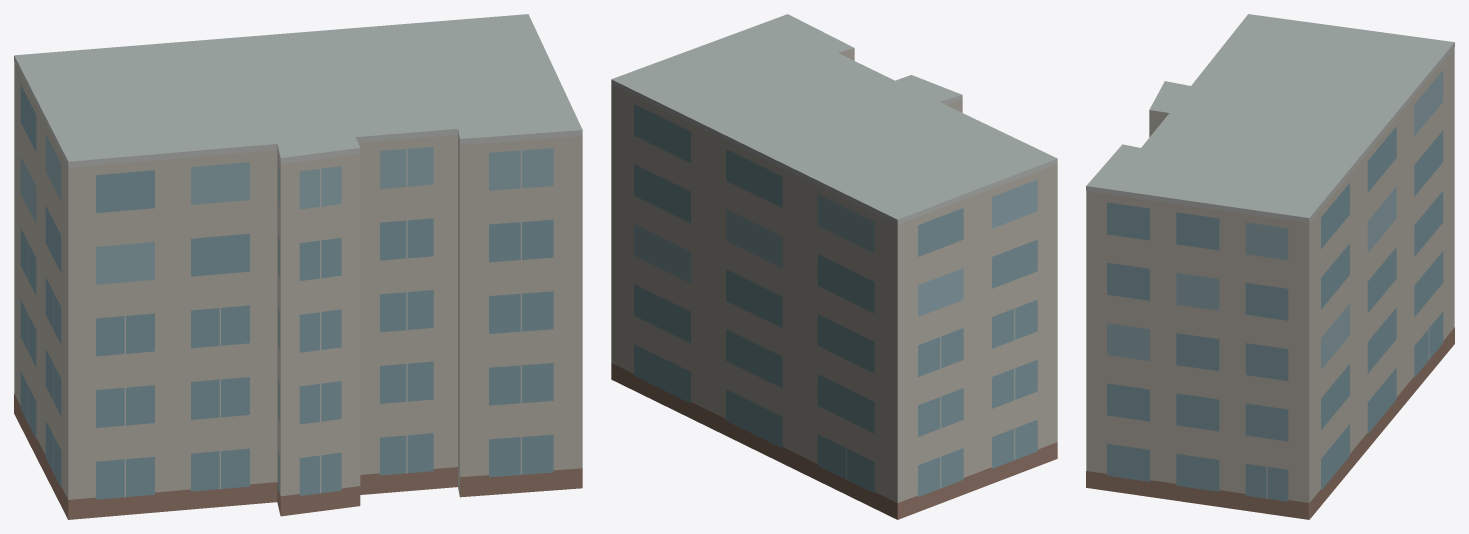
File: survey-upis-32878883.glb
3 renders of one model, left to right at view 1: azimuth 30°, elevation 25°; view 2: azimuth 150°, elevation 25°; view 3: azimuth 270°, elevation 25°, orthographic. The views are drawn at different scales.
Visible parts, largest first — view 1: survey-upis-32878883.tmp; view 2: survey-upis-32878883.tmp; view 3: survey-upis-32878883.tmp.
Boxes of the visible parts, x1=… form: survey-upis-32878883.tmp: x1=14, y1=14, x2=582, y2=519; survey-upis-32878883.tmp: x1=611, y1=14, x2=1057, y2=519; survey-upis-32878883.tmp: x1=1086, y1=14, x2=1454, y2=519.
Bounding box in the file's own units: 20.75 × 14.3 × 15.84.
